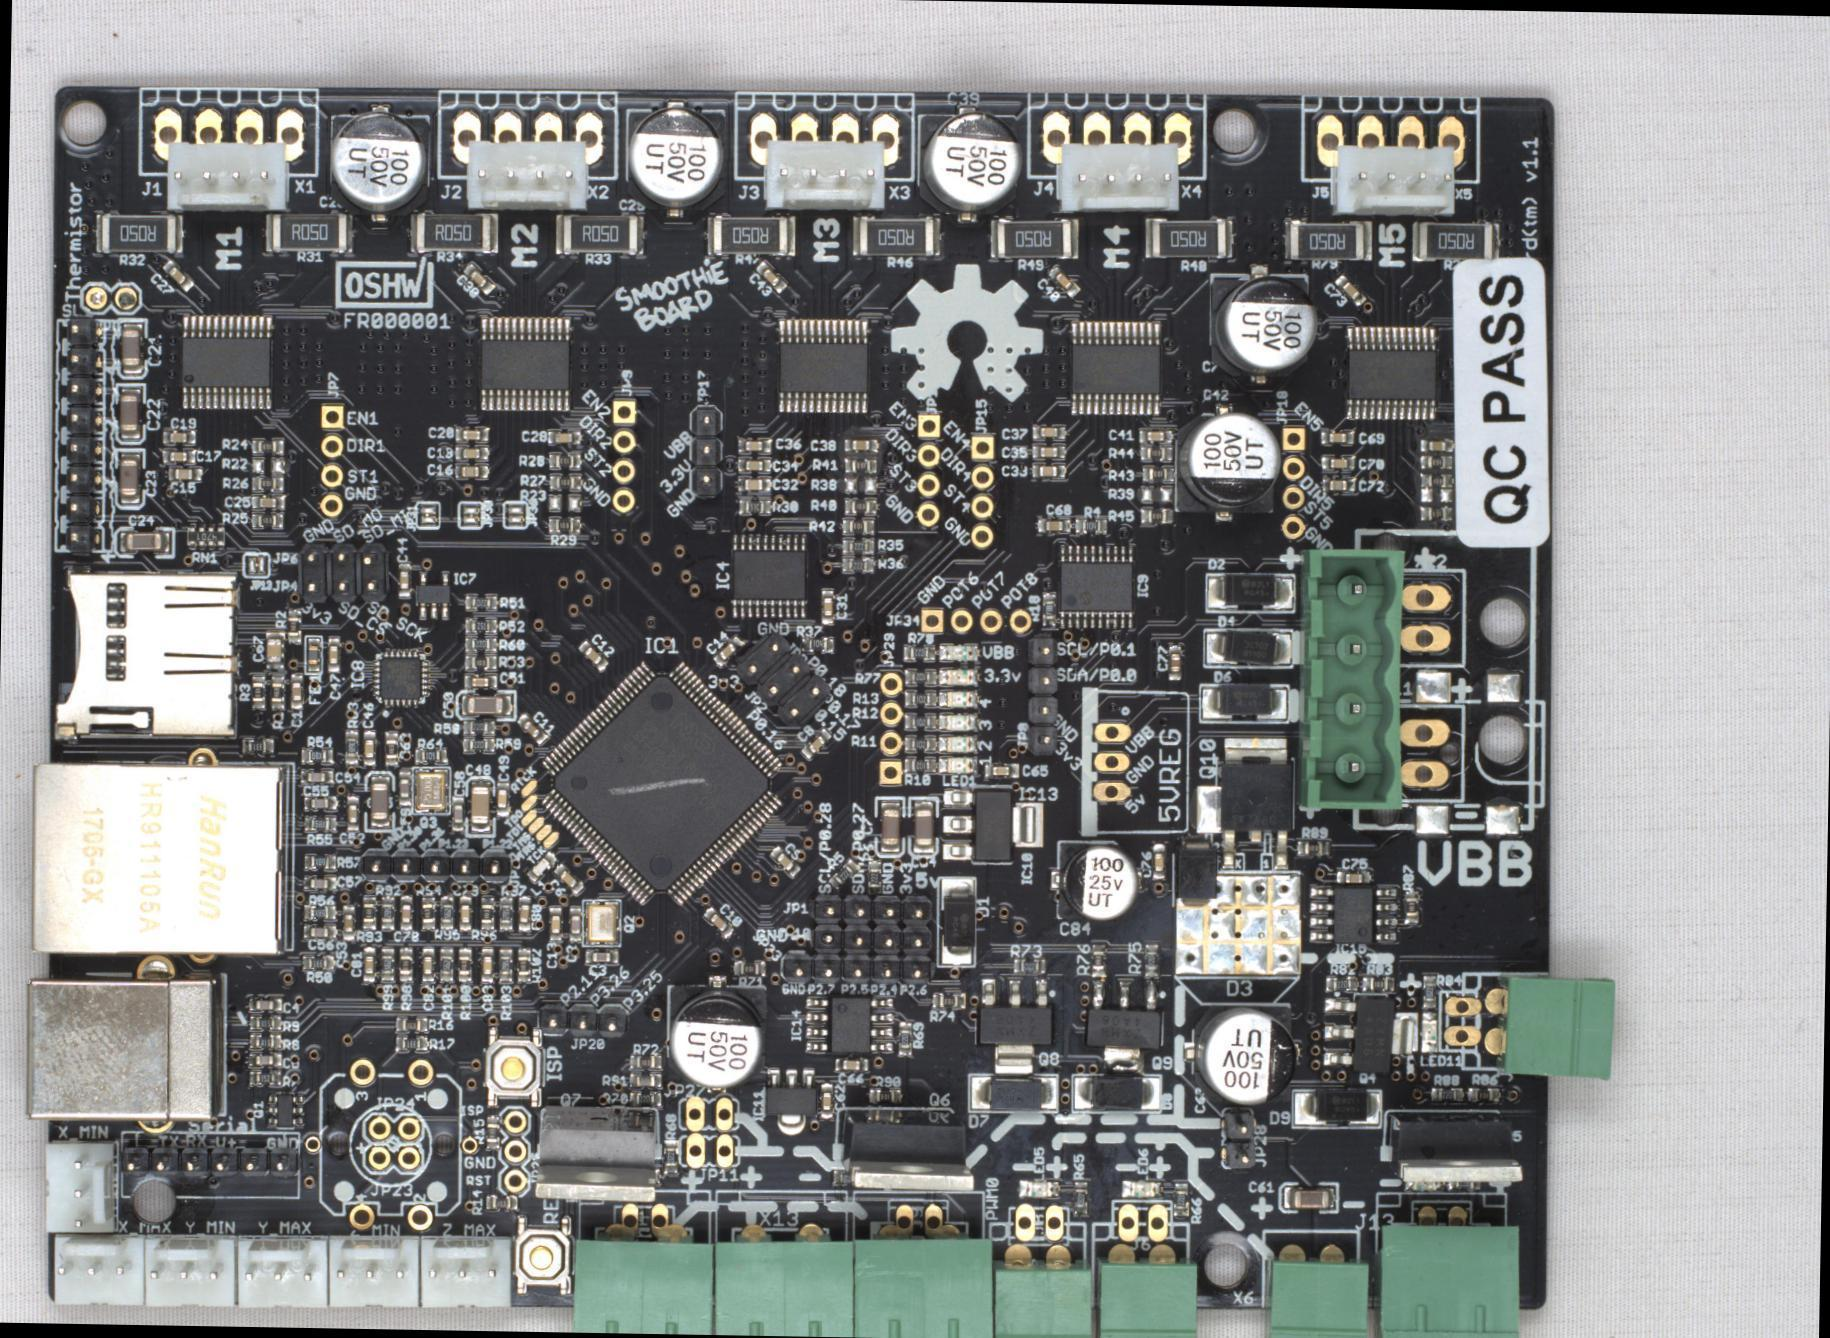Button: (481, 1025, 542, 1107), (514, 1213, 572, 1294)
Capacitor: (361, 769, 395, 833), (1279, 1181, 1342, 1214), (455, 687, 518, 720), (463, 774, 496, 838), (112, 447, 146, 509), (112, 524, 175, 557), (872, 795, 904, 859), (113, 380, 145, 444), (906, 795, 939, 856), (116, 316, 147, 379), (461, 260, 496, 296), (1046, 263, 1080, 299), (799, 725, 833, 760), (711, 633, 745, 667), (576, 638, 609, 672), (753, 258, 787, 293), (161, 258, 194, 292), (516, 711, 549, 747), (701, 905, 734, 938), (1333, 273, 1365, 307), (769, 845, 801, 877), (265, 630, 285, 668), (1031, 442, 1065, 460), (161, 446, 194, 464), (1137, 426, 1172, 443), (454, 460, 488, 478), (736, 474, 770, 492), (250, 492, 284, 509), (1034, 515, 1069, 532), (463, 672, 497, 689), (247, 995, 281, 1013), (1031, 423, 1065, 441), (453, 425, 487, 442), (547, 428, 581, 445), (737, 437, 771, 454), (161, 428, 195, 445), (1320, 452, 1354, 469), (1031, 461, 1065, 478), (819, 586, 834, 624), (167, 465, 201, 482), (984, 761, 1017, 778), (302, 874, 335, 890), (834, 1056, 866, 1072), (453, 444, 486, 461), (736, 456, 769, 473), (842, 436, 878, 452), (1321, 476, 1356, 492), (584, 948, 618, 963), (547, 904, 561, 940), (567, 904, 581, 940), (420, 945, 435, 981), (302, 923, 335, 939), (1320, 429, 1353, 444), (325, 635, 339, 671), (362, 729, 376, 764), (345, 794, 359, 830), (1151, 843, 1165, 879), (341, 903, 355, 939), (479, 947, 493, 983), (362, 945, 376, 980), (819, 1082, 832, 1118), (248, 1051, 280, 1067), (289, 673, 303, 708), (299, 768, 332, 783), (495, 781, 509, 816), (1336, 869, 1370, 883), (303, 795, 335, 809), (1419, 438, 1452, 451), (1168, 644, 1181, 679), (398, 894, 411, 929), (396, 562, 409, 597), (449, 796, 462, 830), (458, 897, 471, 928), (399, 769, 410, 805), (517, 896, 529, 929)
Connector: (26, 743, 298, 965), (23, 953, 229, 1137), (49, 560, 242, 746), (1294, 547, 1404, 811), (1374, 1188, 1523, 1337), (855, 1201, 999, 1337), (715, 1202, 858, 1336), (574, 1201, 715, 1334), (1481, 972, 1616, 1079), (50, 318, 106, 554), (1258, 1232, 1369, 1337), (1096, 1241, 1200, 1337), (447, 105, 607, 167), (993, 1241, 1097, 1337), (1037, 107, 1196, 168), (735, 628, 831, 725), (1312, 110, 1467, 169), (762, 137, 885, 211), (744, 109, 904, 168), (151, 103, 306, 163), (165, 139, 290, 211), (1328, 144, 1455, 214), (465, 138, 588, 210), (1057, 141, 1179, 210), (1394, 701, 1465, 803), (235, 1234, 329, 1308), (42, 1139, 117, 1231), (52, 1231, 145, 1305), (418, 1234, 511, 1307), (327, 1234, 421, 1307), (1401, 570, 1466, 670), (144, 1233, 235, 1306), (359, 847, 510, 883), (122, 1146, 299, 1177), (781, 951, 934, 983), (1025, 634, 1059, 755), (808, 893, 932, 924), (811, 923, 933, 954), (1090, 716, 1133, 805), (966, 432, 997, 551), (687, 403, 724, 498), (608, 397, 637, 515), (912, 409, 941, 527), (535, 1003, 628, 1038), (1277, 424, 1306, 540), (919, 606, 1032, 635), (316, 401, 343, 517), (496, 1102, 529, 1197), (877, 670, 903, 786), (297, 540, 389, 572), (296, 572, 389, 601), (1113, 1200, 1169, 1241), (1219, 1105, 1254, 1170), (675, 1095, 739, 1131), (676, 1131, 740, 1166), (1009, 1201, 1065, 1242), (80, 280, 142, 314), (360, 1110, 424, 1142), (360, 1142, 424, 1175), (1443, 993, 1482, 1047), (341, 1200, 379, 1232), (401, 1202, 436, 1234), (404, 1056, 434, 1087), (345, 1055, 375, 1087)
Diode: (1202, 627, 1301, 670), (1196, 683, 1298, 724), (965, 1071, 1058, 1113), (934, 875, 976, 967), (1290, 1088, 1383, 1130), (1069, 1072, 1162, 1113), (1203, 572, 1295, 613), (1173, 835, 1214, 905), (1172, 1181, 1188, 1215)
Electrolytic Capacitor: (1203, 261, 1318, 383), (324, 100, 432, 222), (1172, 402, 1282, 521), (914, 106, 1024, 222), (1181, 1004, 1301, 1107), (663, 973, 764, 1095), (625, 97, 723, 219), (1047, 838, 1137, 922)
IC: (537, 660, 784, 910), (178, 309, 274, 410), (1344, 323, 1438, 421), (477, 314, 571, 411), (776, 317, 870, 412), (1067, 319, 1160, 415), (938, 782, 1041, 865), (1055, 543, 1135, 631), (729, 532, 807, 616), (1309, 884, 1397, 944), (803, 995, 894, 1054), (762, 1064, 817, 1137), (371, 646, 430, 706), (413, 568, 448, 619)
Inductor: (524, 848, 557, 881)
Led: (937, 642, 979, 662), (937, 687, 977, 708), (937, 711, 975, 731), (938, 666, 979, 685), (1419, 1012, 1438, 1053), (1120, 1179, 1161, 1198), (1018, 1179, 1059, 1198), (937, 733, 976, 752), (935, 753, 974, 771), (1405, 1178, 1444, 1190)
Pads: (1409, 666, 1523, 836), (1168, 869, 1301, 976), (240, 550, 270, 578), (500, 499, 525, 529), (414, 499, 439, 529), (456, 500, 482, 529), (547, 493, 581, 513), (249, 456, 284, 474), (1137, 484, 1172, 503), (842, 476, 877, 493), (1419, 486, 1452, 503), (519, 793, 536, 811), (519, 808, 536, 826), (535, 823, 552, 841), (542, 828, 559, 847), (527, 815, 543, 835), (520, 779, 536, 797)
Resistor: (1143, 215, 1233, 260), (1282, 218, 1371, 261), (555, 212, 645, 256), (989, 217, 1078, 260), (706, 214, 796, 257), (94, 212, 182, 254), (408, 211, 498, 253), (263, 212, 353, 253), (1411, 220, 1499, 261), (851, 216, 941, 256), (826, 856, 859, 890), (184, 523, 224, 549), (902, 687, 935, 707), (302, 851, 335, 870), (903, 712, 935, 731), (732, 958, 765, 976), (249, 1013, 281, 1031), (1042, 591, 1057, 629), (843, 497, 876, 514), (382, 731, 399, 766), (929, 992, 963, 1008), (250, 437, 284, 454), (905, 667, 936, 686), (303, 814, 334, 832), (1013, 956, 1045, 974), (547, 473, 579, 490), (1137, 507, 1170, 524), (250, 512, 283, 528), (904, 755, 936, 772), (1296, 839, 1328, 856), (302, 903, 335, 920), (249, 1032, 281, 1049), (628, 1071, 661, 1088), (248, 1069, 281, 1087), (1143, 940, 1158, 976), (1421, 973, 1436, 1008), (903, 733, 934, 752), (250, 475, 282, 491), (902, 644, 934, 660), (464, 653, 496, 670), (360, 893, 375, 928), (1090, 943, 1106, 977), (398, 946, 413, 980), (380, 947, 395, 982), (628, 1090, 659, 1107), (485, 1114, 500, 1148), (1141, 466, 1173, 482), (800, 636, 833, 652), (413, 748, 446, 764), (300, 747, 332, 763), (395, 1035, 427, 1051), (629, 1054, 662, 1069), (1139, 445, 1172, 460), (843, 458, 875, 473), (842, 556, 873, 573), (343, 732, 359, 762), (287, 608, 301, 643), (1072, 1181, 1087, 1216), (1419, 471, 1451, 487), (738, 498, 768, 514), (548, 517, 579, 532), (463, 594, 495, 610), (464, 617, 496, 632), (241, 737, 273, 753), (394, 1015, 425, 1031), (548, 452, 580, 468), (250, 675, 264, 709), (1402, 889, 1417, 923), (479, 894, 493, 927), (380, 896, 394, 931), (438, 945, 452, 979), (516, 947, 530, 981), (497, 947, 512, 982), (457, 947, 471, 981), (897, 1022, 911, 1057), (1075, 517, 1105, 533), (464, 719, 495, 734), (302, 955, 333, 970), (1325, 976, 1356, 991), (484, 1193, 515, 1209), (1418, 505, 1450, 520), (464, 636, 497, 651), (270, 675, 284, 708), (420, 896, 435, 929), (1430, 1087, 1462, 1101), (662, 1140, 676, 1173), (841, 518, 872, 533), (841, 538, 873, 552), (1466, 1087, 1498, 1101), (868, 1089, 900, 1103), (867, 860, 880, 893), (1362, 976, 1393, 990), (461, 738, 493, 752), (439, 896, 452, 929), (1420, 456, 1452, 469), (498, 897, 512, 929), (1447, 1179, 1480, 1189), (832, 1170, 853, 1185)
Transistor: (1188, 733, 1293, 869), (532, 1105, 661, 1198), (833, 1108, 973, 1190), (1381, 1107, 1523, 1183), (1321, 992, 1418, 1073), (1081, 977, 1163, 1071), (974, 976, 1052, 1075), (263, 1090, 303, 1127)
